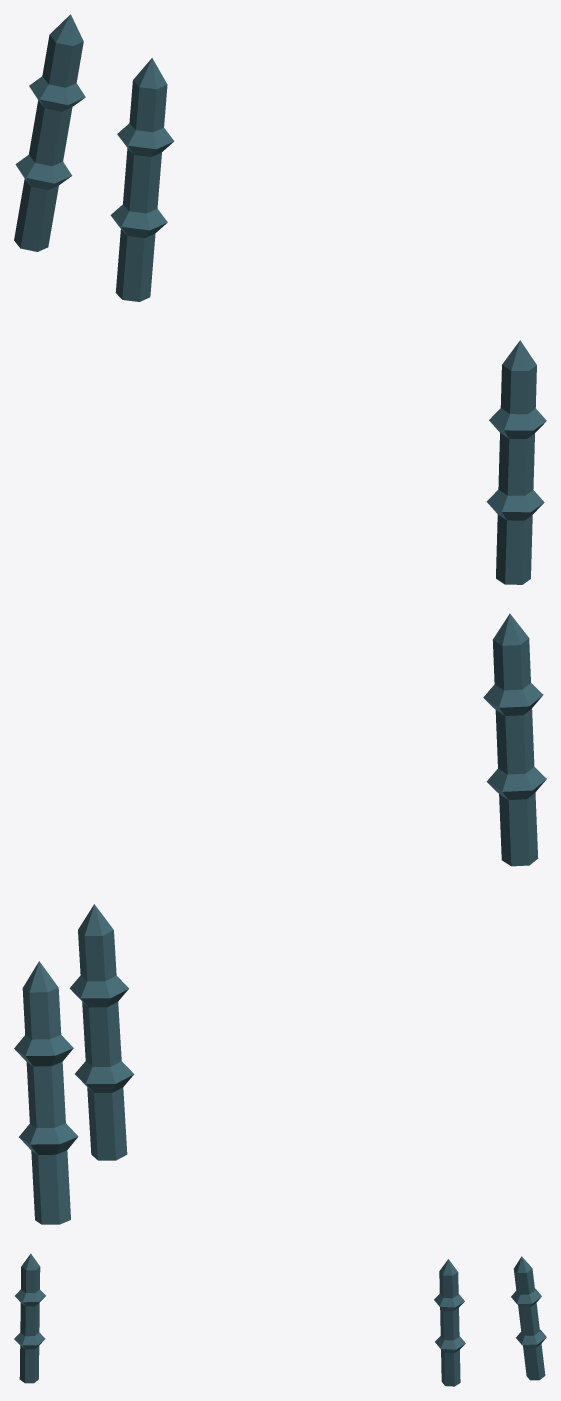
3 views of the same model, one above another, from view 1: azimuth 30°, elevation 25°; view 2: azimuth 150°, elevation 25°; view 3: azimuth 270°, elevation 25° (orthographic). The views are drawn at different scales.
Visible parts, largest first — view 1: Cylinder1616_metal_0, Cylinder1521_metal_0, Cylinder1613_metal_0; view 2: Cylinder1613_metal_0, Cylinder1521_metal_0, Cylinder1616_metal_0; view 3: Cylinder1616_metal_0, Cylinder1521_metal_0, Cylinder1613_metal_0.
Boxes of the visible parts, <box> form: Cylinder1616_metal_0: <box>486,340,546,584</box>; Cylinder1521_metal_0: <box>110,58,174,301</box>; Cylinder1613_metal_0: <box>14,14,85,251</box>; Cylinder1613_metal_0: <box>14,961,78,1224</box>; Cylinder1521_metal_0: <box>69,904,133,1160</box>; Cylinder1616_metal_0: <box>483,613,546,866</box>; Cylinder1616_metal_0: <box>14,1253,45,1383</box>; Cylinder1521_metal_0: <box>434,1259,465,1386</box>; Cylinder1613_metal_0: <box>511,1256,546,1380</box>.
Size of the model in its own units: 27.02 by 84.74 by 314.
